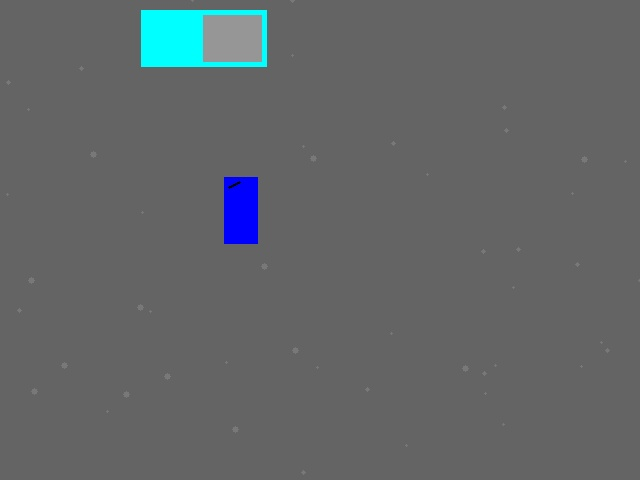motorcycle: (224, 177, 257, 243)
truck: (141, 10, 266, 66)
